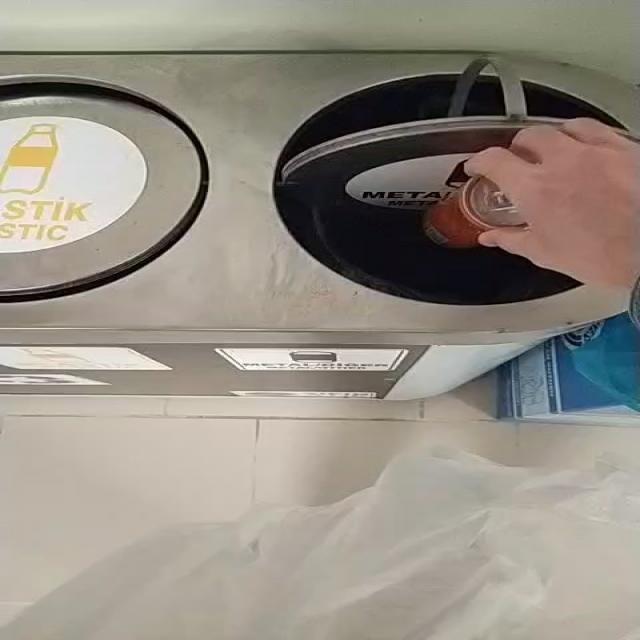bin: (0, 52, 639, 400)
metal: (424, 176, 527, 248)
